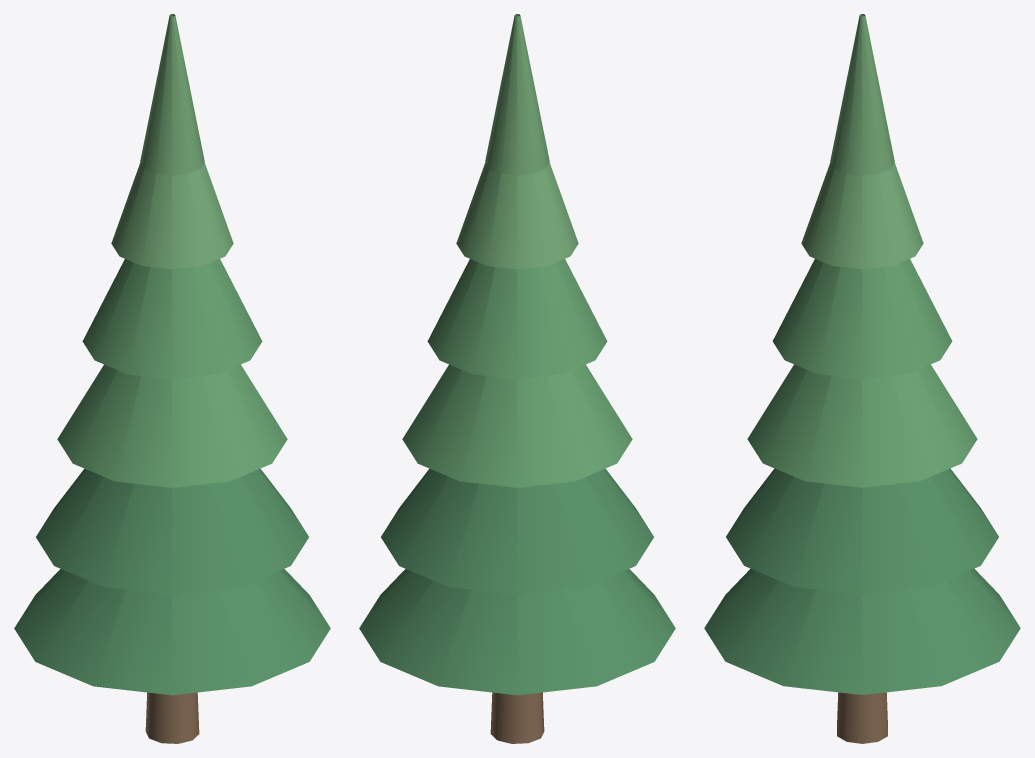
The model's file is pine_tall.glb.
3 renders of one model, left to right at view 1: azimuth 30°, elevation 25°; view 2: azimuth 150°, elevation 25°; view 3: azimuth 270°, elevation 25°, orthographic.
Visible parts, largest first — view 1: RootNode; view 2: RootNode; view 3: RootNode.
Boxes of the visible parts, box(x1,y1,x2,y2) form: RootNode: box(14, 14, 330, 743); RootNode: box(359, 14, 675, 743); RootNode: box(704, 14, 1020, 743).
Size of the model in its own units: 8.8 by 22 by 8.8.
